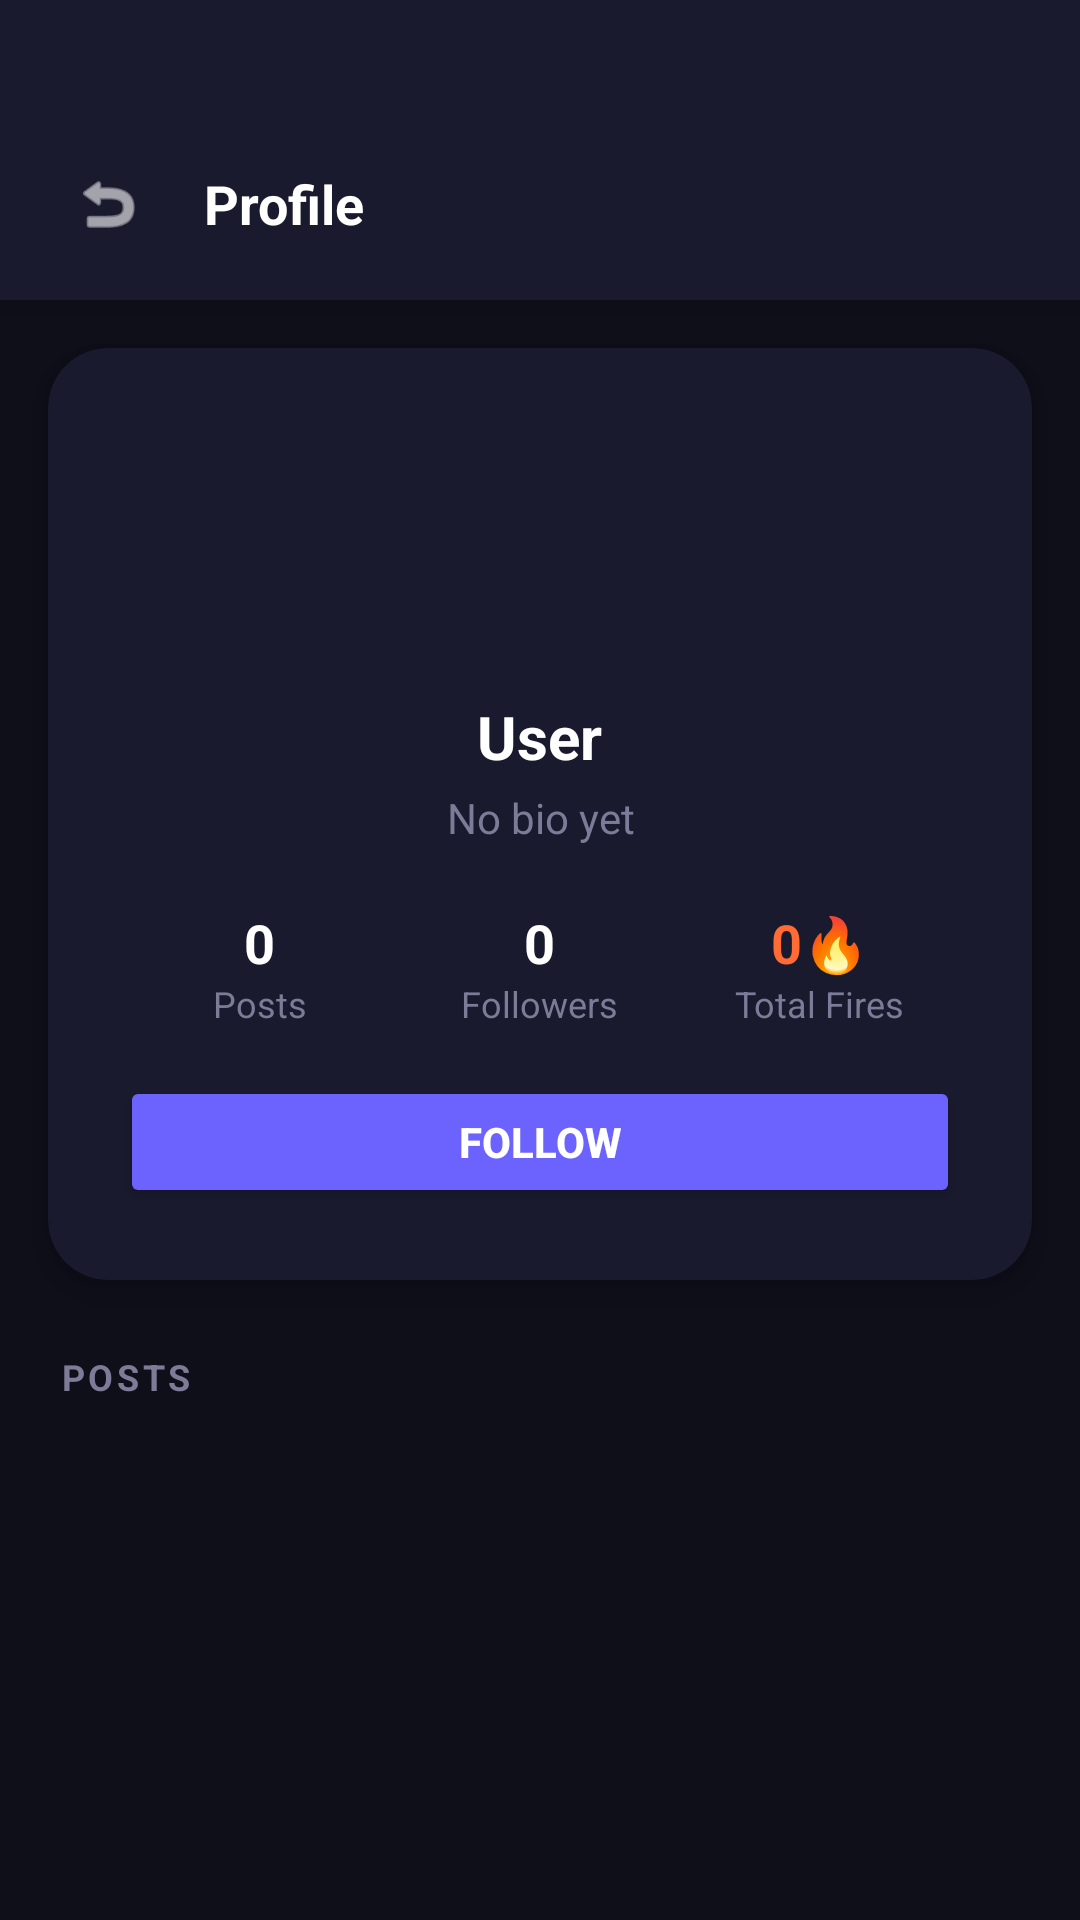

Point at icon controls on the screen. Image size 1080px x 1920px, points as (x,y).
revert: (109,204)
